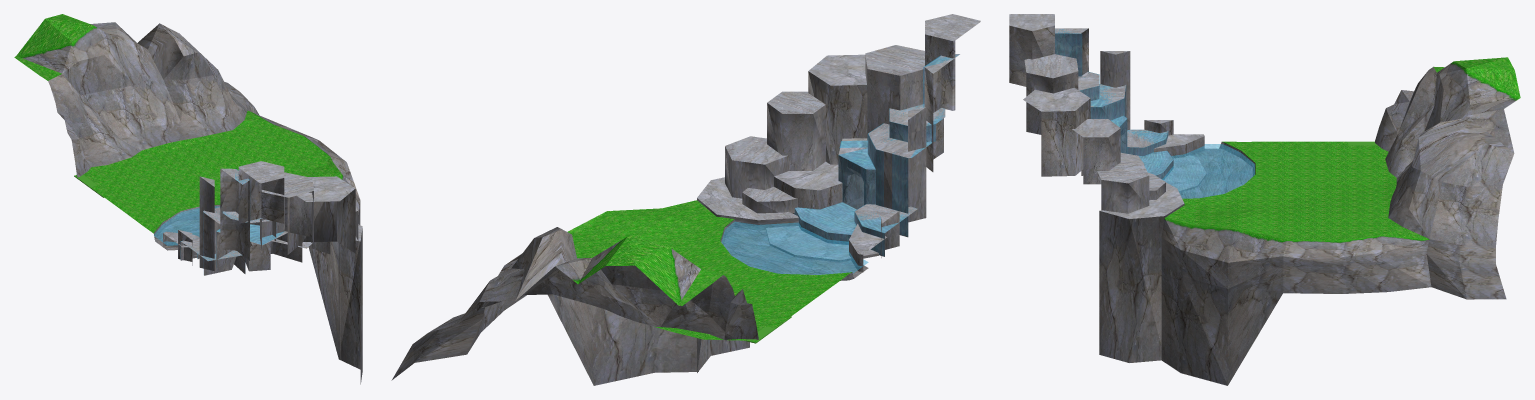
The model's file is chao-garden-4.glb.
3 views of the same model, side by side, from view 1: azimuth 30°, elevation 25°; view 2: azimuth 150°, elevation 25°; view 3: azimuth 270°, elevation 25° (orthographic). The views are drawn at different scales.
Visible parts, largest first — view 1: chao_island; view 2: chao_island; view 3: chao_island.
Part boxes in pixels (x1,y1,x2,y2): chao_island: [14, 14, 362, 384]; chao_island: [391, 14, 980, 385]; chao_island: [1009, 14, 1520, 385].
Size of the model in its own units: 74.45 by 81.26 by 139.
Materials: 8 (8 with a texture image).
